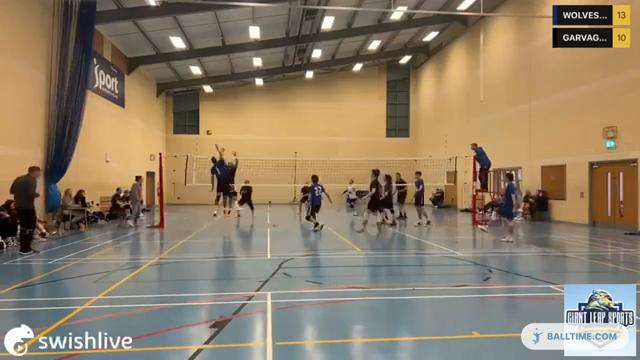attacco: (202, 143, 232, 220)
muro: (224, 148, 243, 214)
